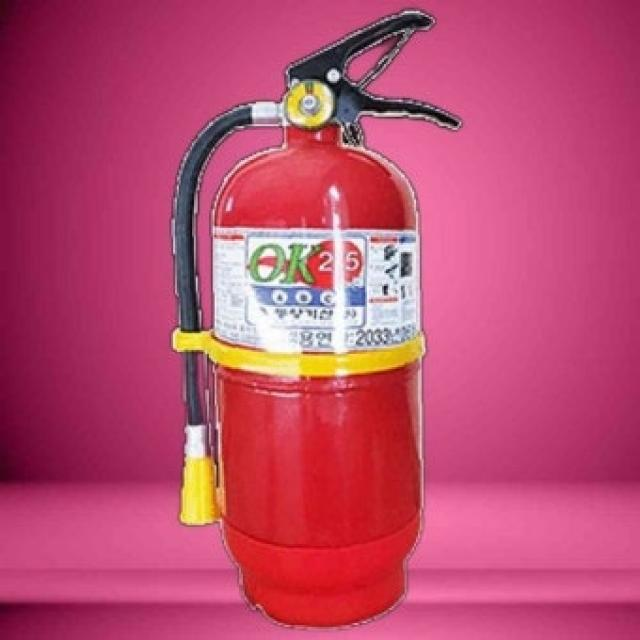pressure gauge: (284, 79, 333, 128)
